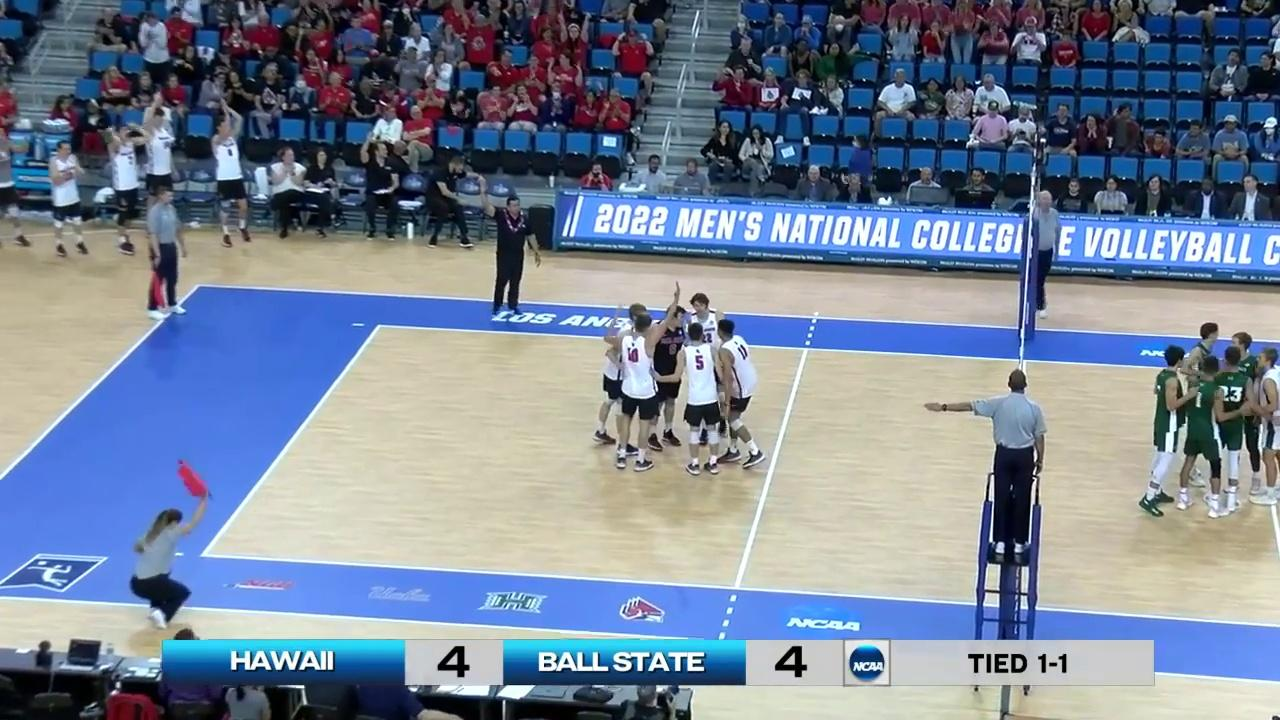player: (1141, 347, 1198, 524), (593, 305, 648, 446), (715, 320, 765, 468), (1181, 354, 1225, 518), (679, 324, 725, 477), (1187, 322, 1227, 492), (684, 294, 729, 442), (614, 317, 657, 471), (1212, 347, 1251, 512), (1224, 333, 1264, 493), (646, 306, 689, 451), (1254, 347, 1280, 505)
refree: (127, 486, 212, 629), (982, 373, 1045, 550), (1019, 190, 1061, 325), (145, 185, 186, 315)
